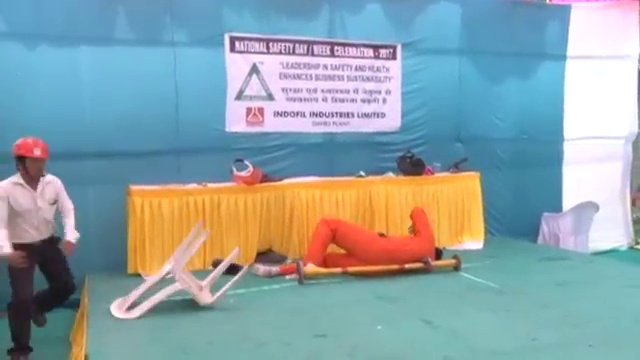helmet: (13, 135, 47, 158)
helmet_on: (12, 135, 48, 184)
person: (1, 135, 83, 354), (251, 206, 446, 280)
